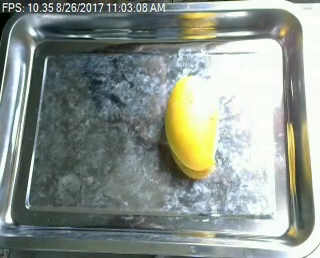Mango: (162, 73, 227, 173)
